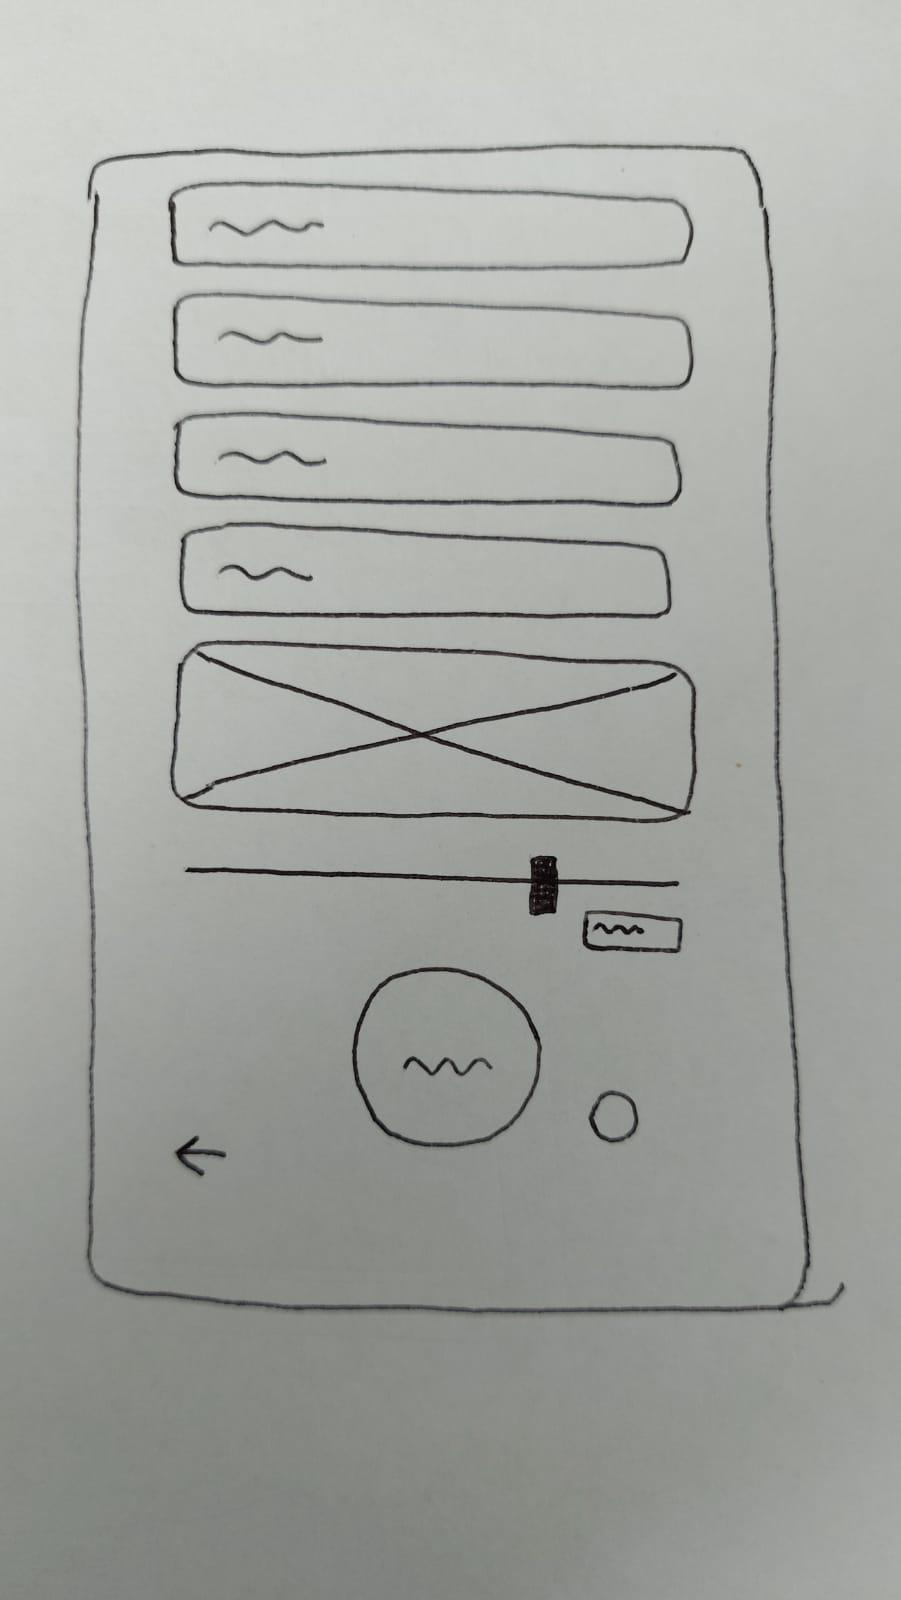Button: (349, 969, 542, 1148), (583, 909, 683, 953), (587, 1091, 641, 1143)
Image: (171, 640, 697, 822)
Label: (168, 1135, 233, 1179)
Screen: (75, 142, 812, 1315)
Slider: (185, 853, 680, 915)
TextBox: (171, 410, 683, 509), (173, 292, 694, 388), (179, 522, 674, 619), (168, 181, 694, 270)
